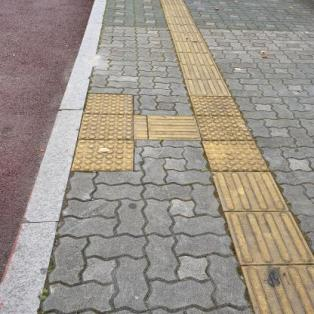Podoctatil: (157, 0, 313, 313), (57, 89, 269, 171)
